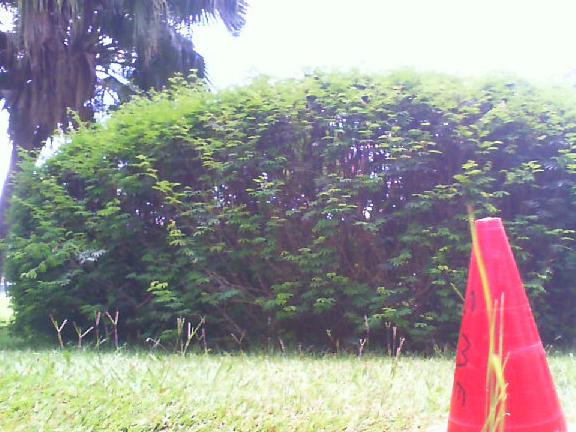0 cone: (427, 216, 576, 432)
